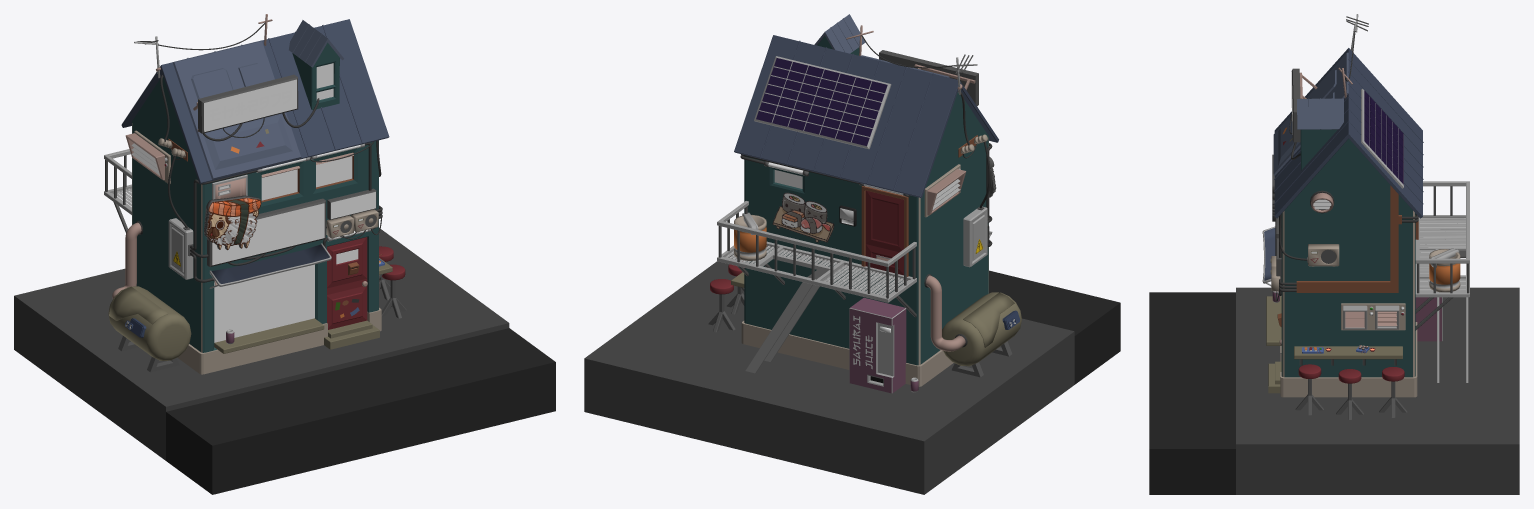
The model's file is House4.fbx.
3 views of the same model, side by side, from view 1: azimuth 30°, elevation 25°; view 2: azimuth 150°, elevation 25°; view 3: azimuth 270°, elevation 25° (orthographic). The views are drawn at different scales.
Visible parts, largest first — view 1: Cube.001; view 2: Cube.001; view 3: Cube.001.
Part boxes in pixels (box(x1,y1,x2,y2)): Cube.001: box(14, 14, 555, 494); Cube.001: box(584, 14, 1120, 494); Cube.001: box(1149, 14, 1519, 494).
Size of the model in its own units: 703 by 717 by 703.
